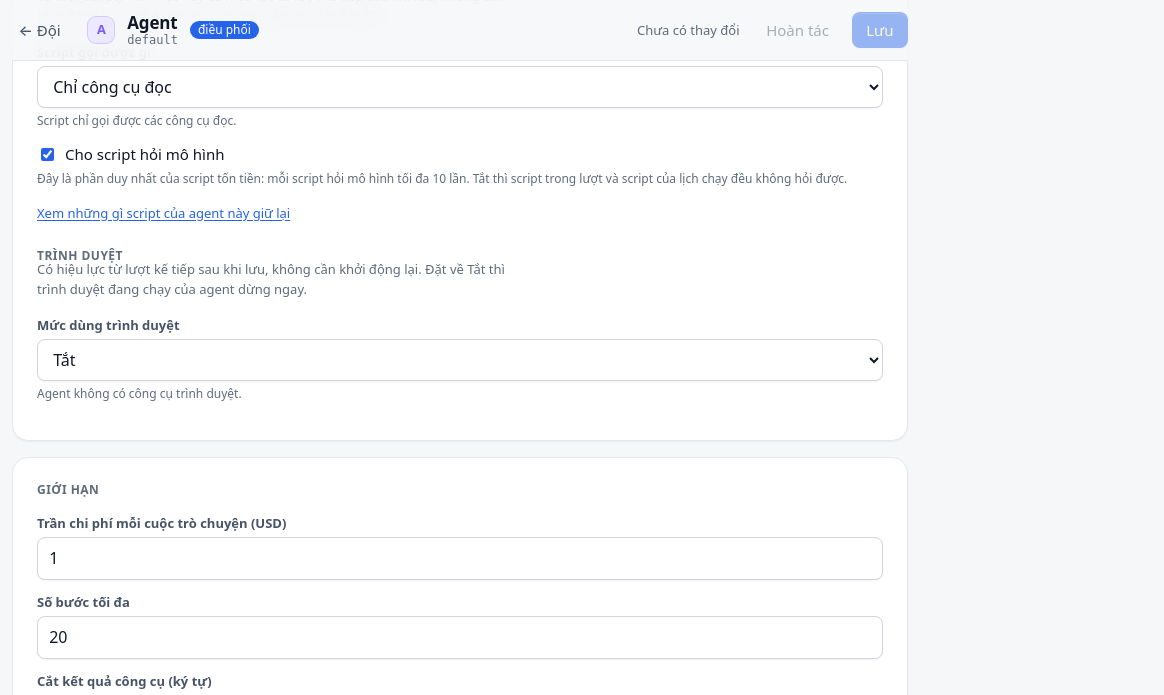
Test: whether an agent has a browser › has nothing to save once the choice is taken back
(page scrolled)
Select "Thao tác" in the dropdown labelled "Mức dùng trình duyệt" at (460, 360), box [37,339,883,381]
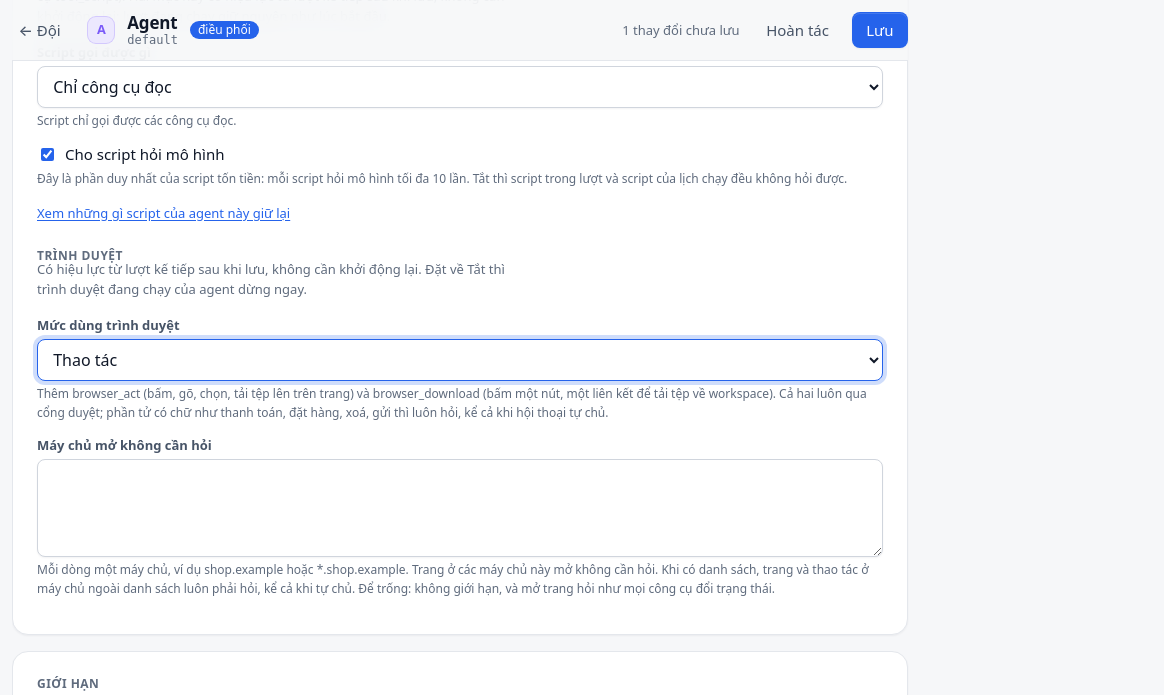
Select "Tắt" in the dropdown labelled "Mức dùng trình duyệt" at (460, 360), box [37,339,883,381]
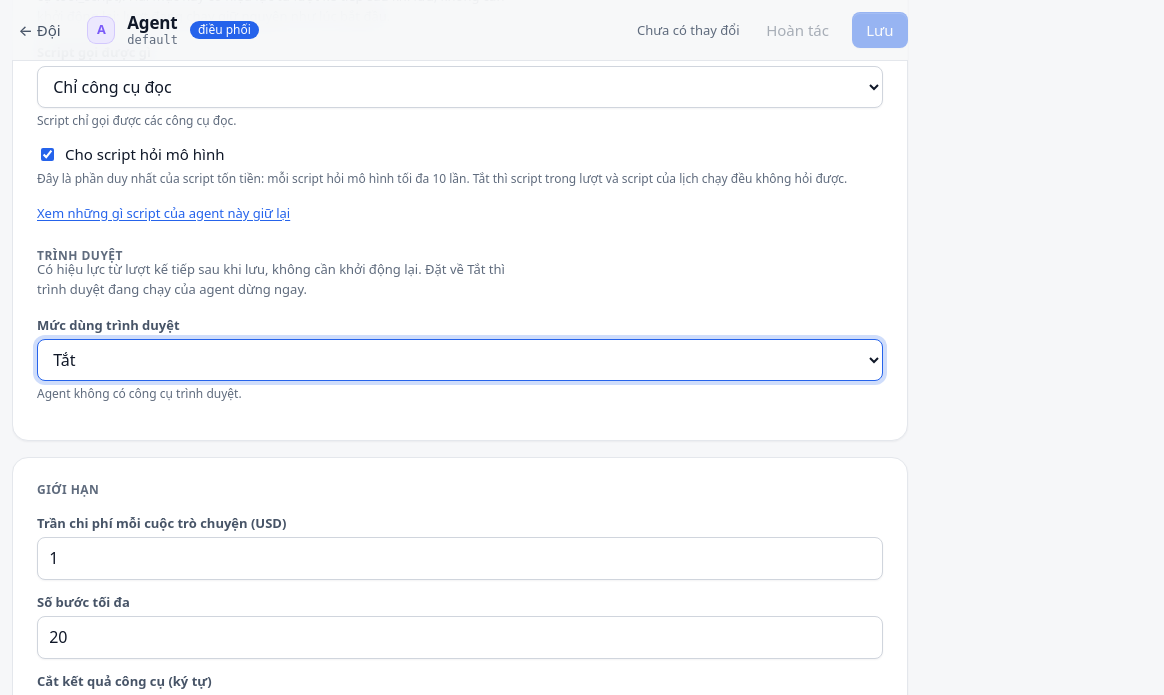
Result: the text "Chưa có thay đổi" is shown at [637,20,740,40]
